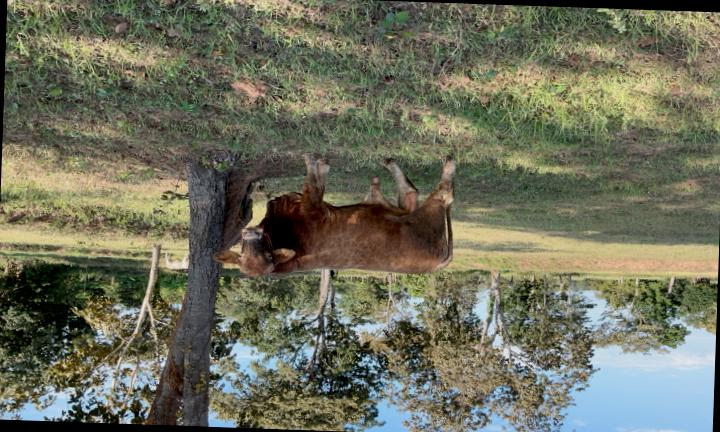Charolais: (214, 156, 455, 277)
